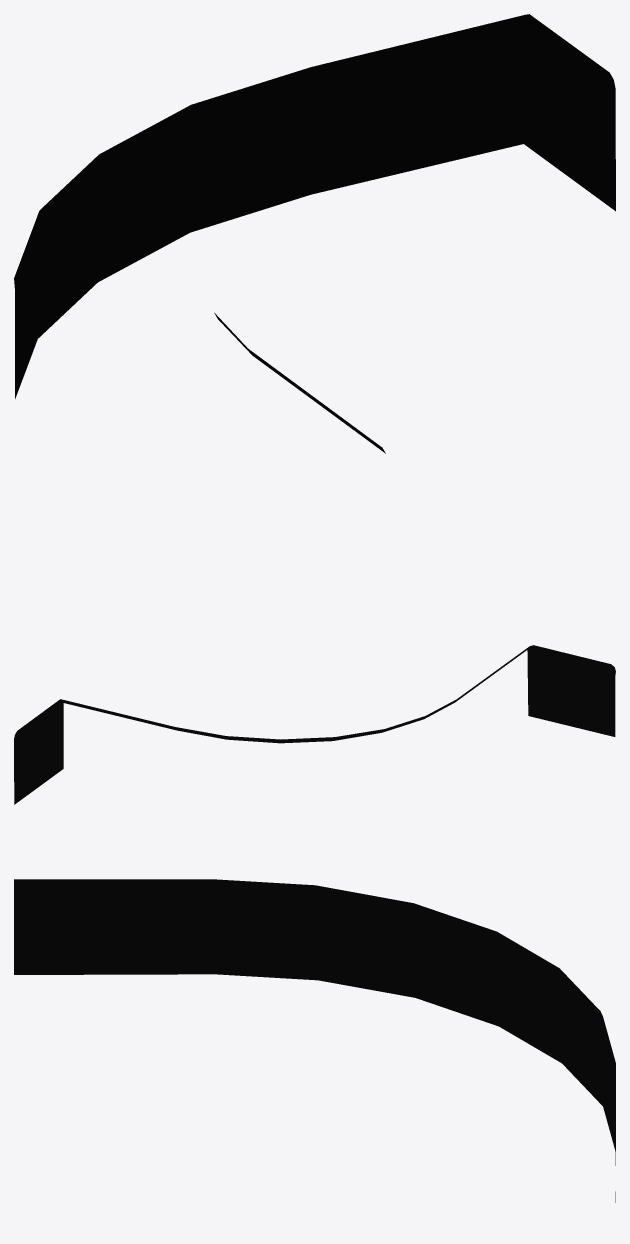
The picture shows the model from 3 angles, top to bottom: view 1: azimuth 30°, elevation 25°; view 2: azimuth 150°, elevation 25°; view 3: azimuth 270°, elevation 25°; orthographic projection. The views are drawn at different scales.
Parts seen in each view (by area): view 1: Joint_0_Object_0; view 2: Joint_0_Object_0; view 3: Joint_0_Object_0.
Boxes of the visible parts, x1=… form: Joint_0_Object_0: x1=14, y1=14, x2=615, y2=453; Joint_0_Object_0: x1=14, y1=645, x2=615, y2=804; Joint_0_Object_0: x1=14, y1=879, x2=615, y2=1202.
Bounding box in the file's own units: 1857 × 335 × 1852.
Materials: 1 (1 with a texture image).
